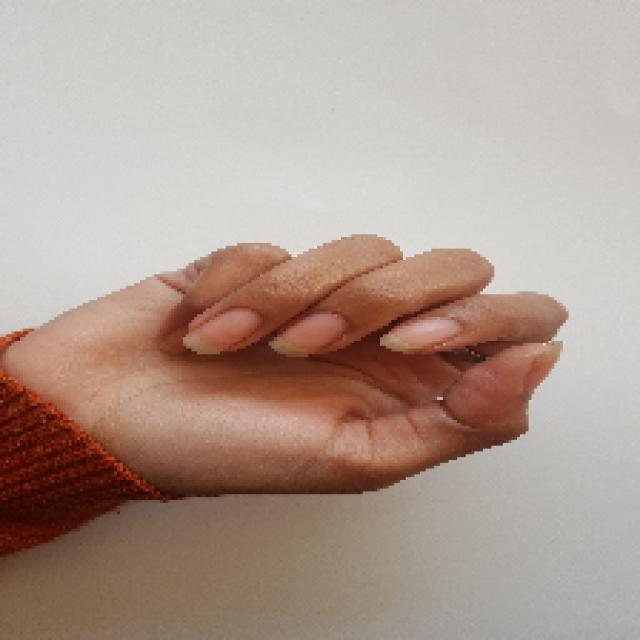Nail: (270, 312, 346, 358), (184, 309, 260, 354), (381, 318, 460, 353), (522, 341, 561, 396)
